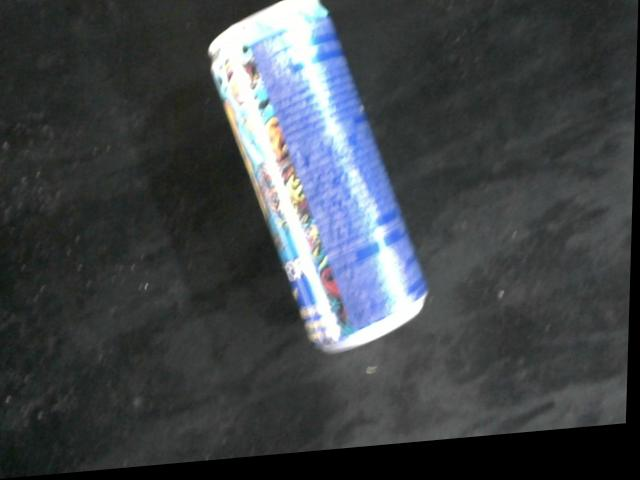can: (206, 0, 434, 363)
